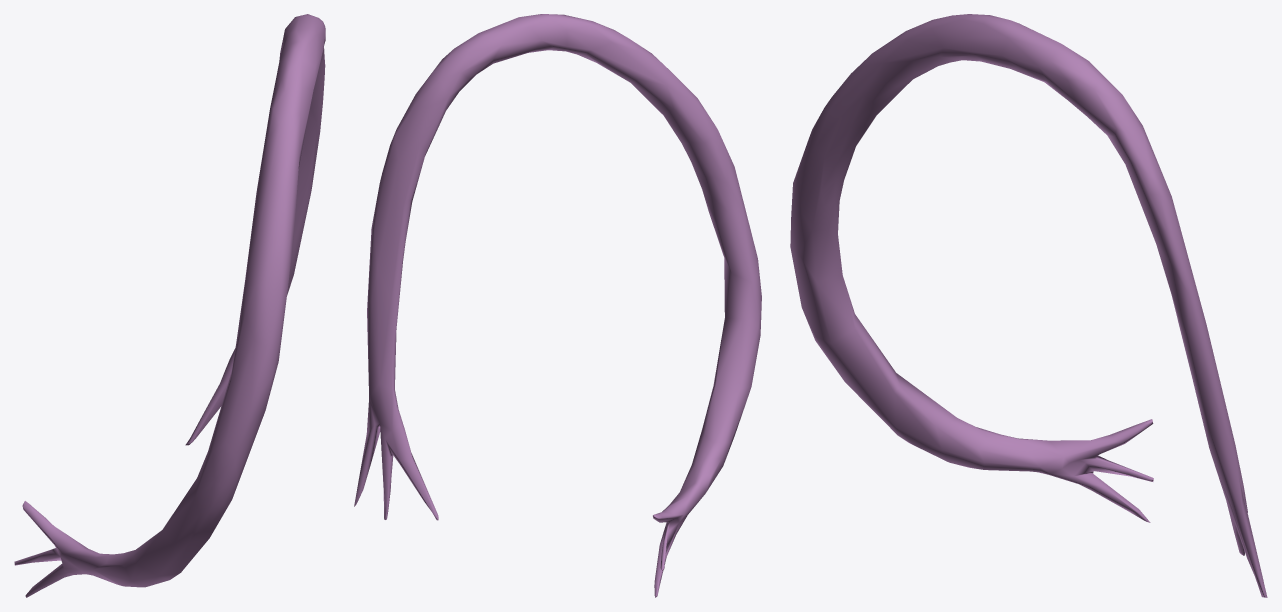
3 renders of one model, left to right at view 1: azimuth 30°, elevation 25°; view 2: azimuth 150°, elevation 25°; view 3: azimuth 270°, elevation 25°, orthographic. The views are drawn at different scales.
Visible parts, largest first — view 1: 左侧终纹; view 2: 左侧终纹; view 3: 左侧终纹.
Part boxes in pixels (x1,y1,x2,y2): 左侧终纹: [14, 14, 325, 597]; 左侧终纹: [354, 14, 761, 597]; 左侧终纹: [790, 14, 1267, 597].
Size of the model in its own units: 0.0367 by 0.0624 by 0.0441.
